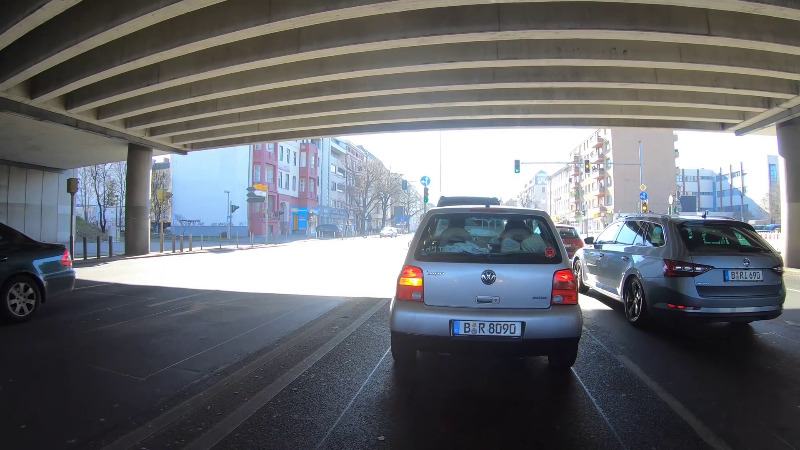Plate: (450, 317, 523, 338), (721, 268, 764, 282)
